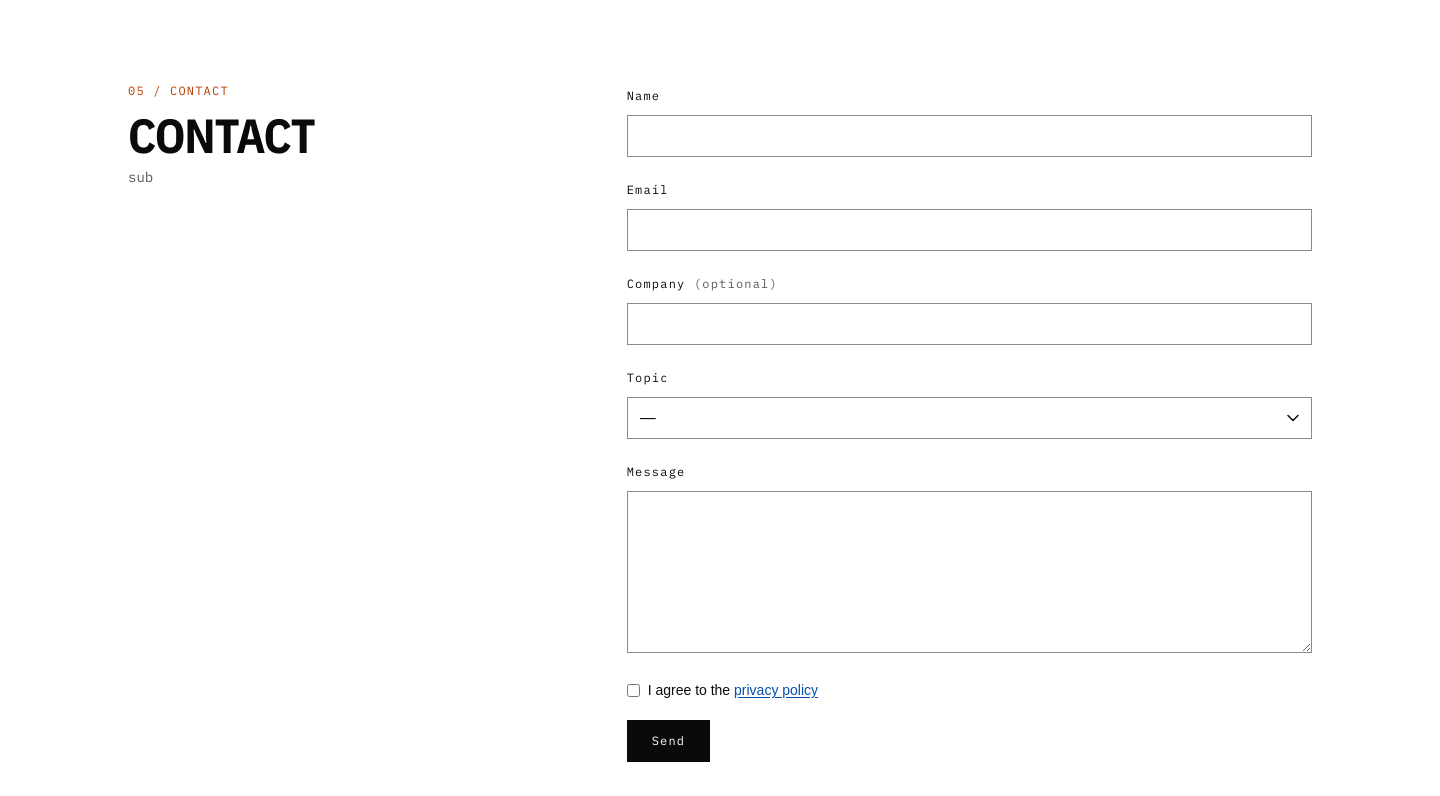
Test: ContactSection › sends the entry through the Server Action
The image size is (1440, 796).
Type "山田" into the field labelled "Name" at [969, 136], box [627, 115, 1312, 157]
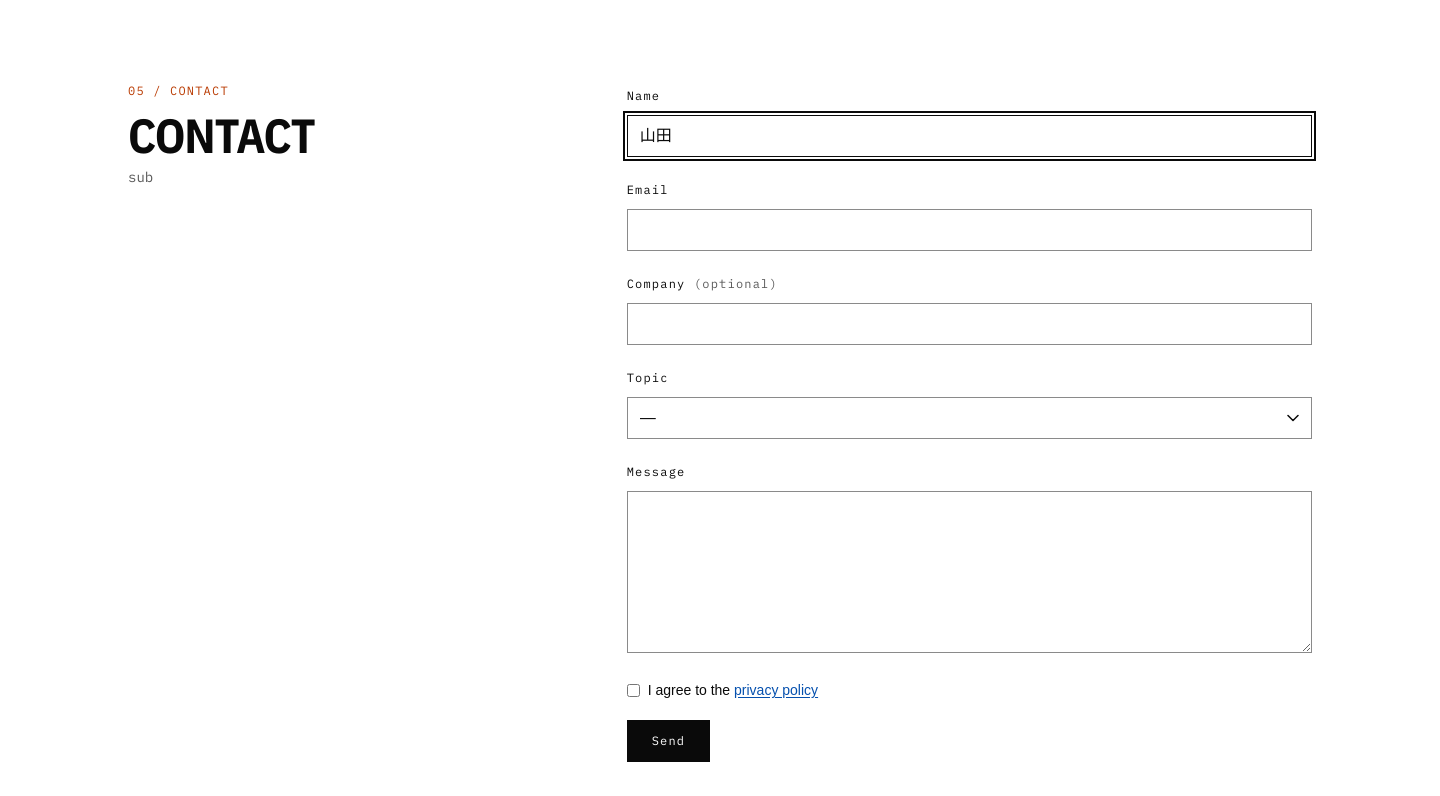
Type "taro@example.com" into the field labelled "Email" at [969, 230], box [627, 209, 1312, 251]
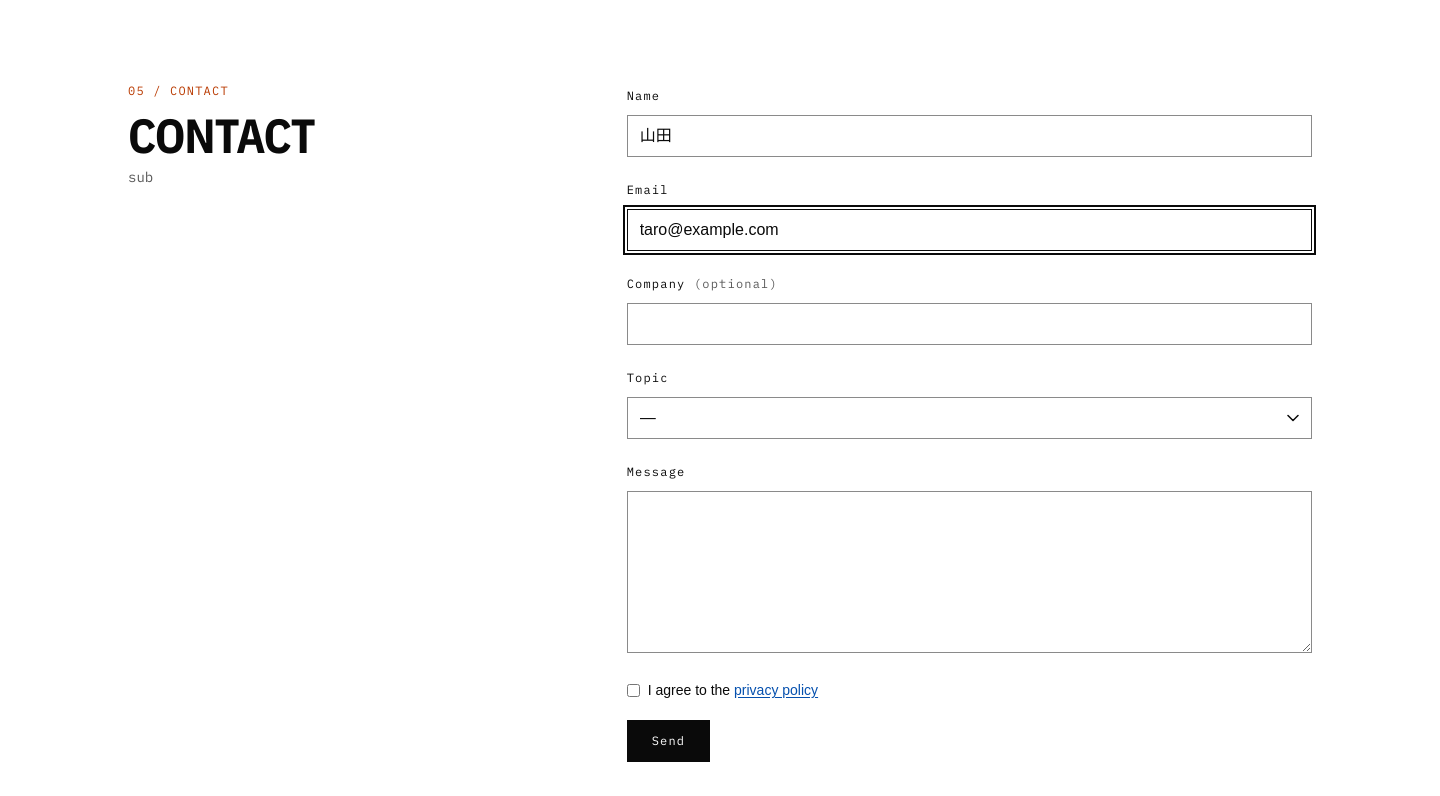
Select "Pipeline" in the dropdown labelled "Topic" at [969, 418], box [627, 397, 1312, 439]
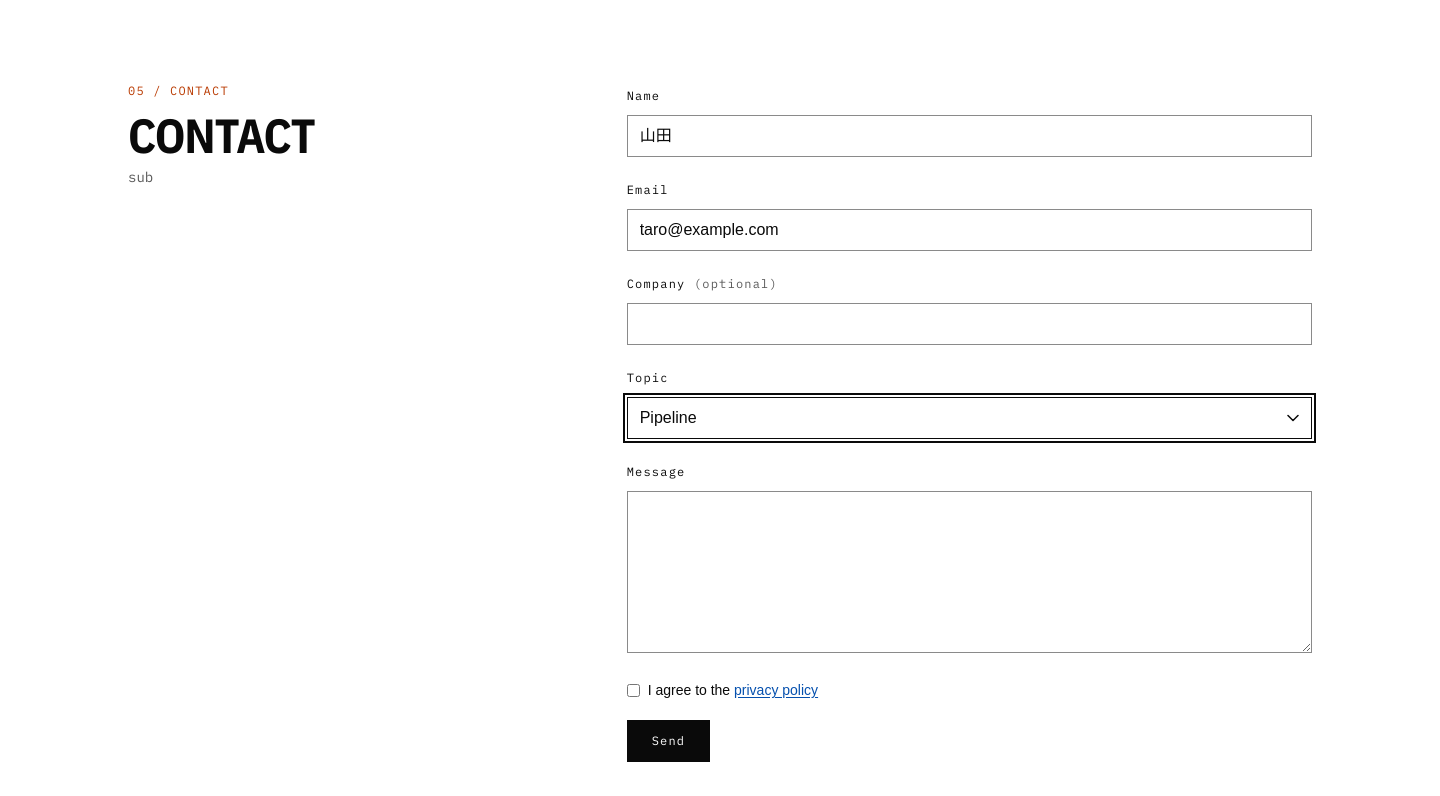
Type "相談です" into the text box labelled "Message" at [969, 572], box [627, 491, 1312, 653]
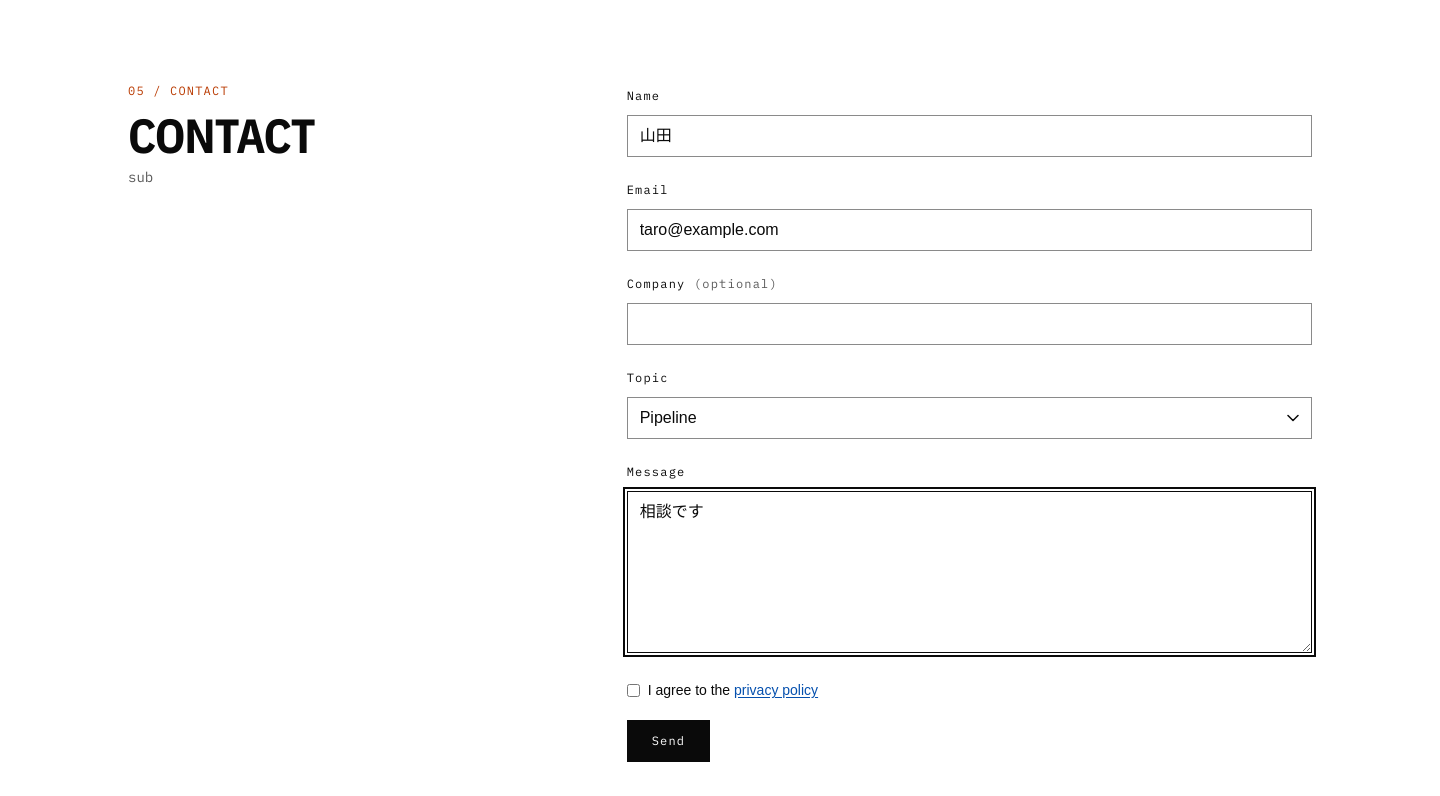
Click the checkbox labelled "I agree to the privacy policy" at [633, 690], box [627, 684, 640, 696]
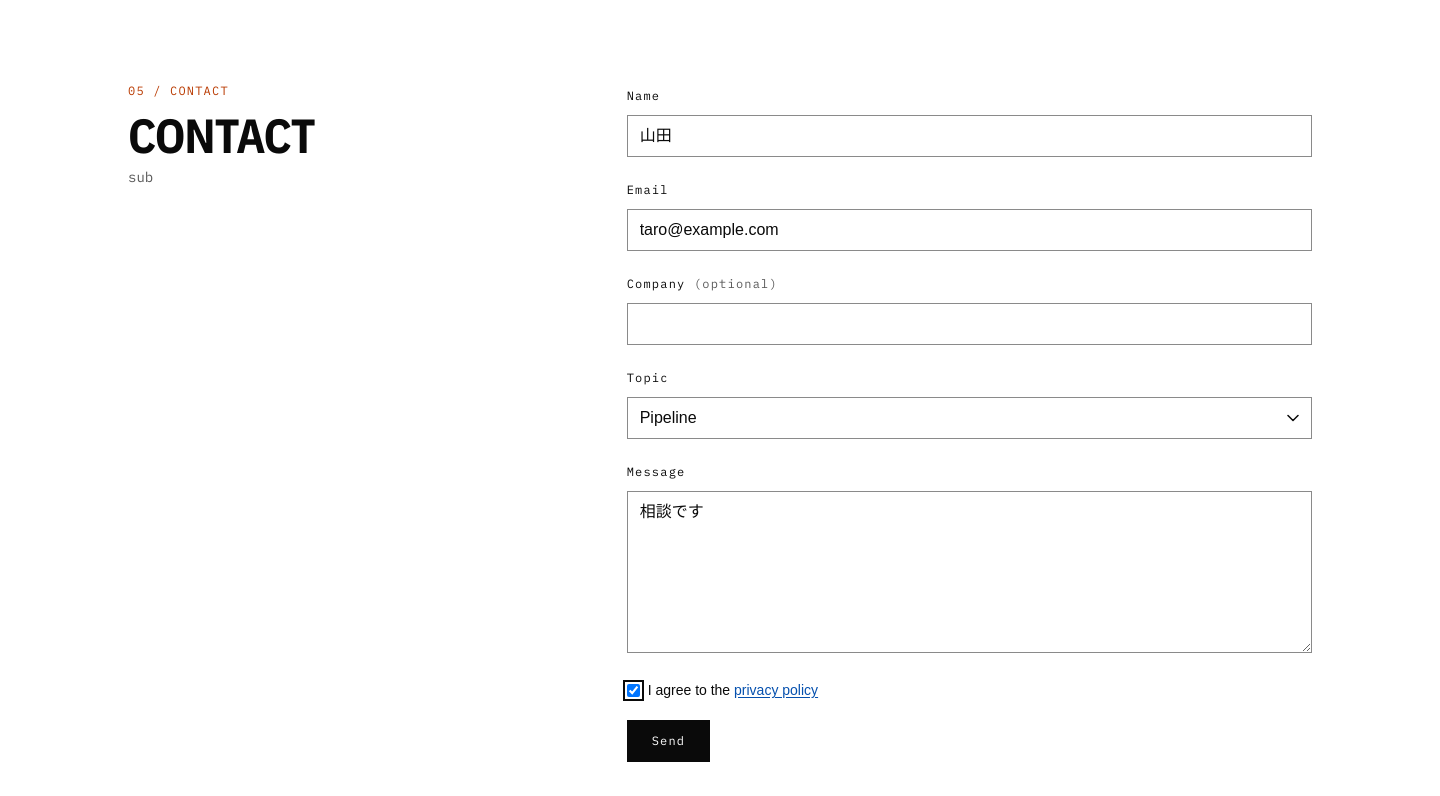
Click the button "Send" at [668, 741], box [627, 720, 710, 762]
(page scrolled)
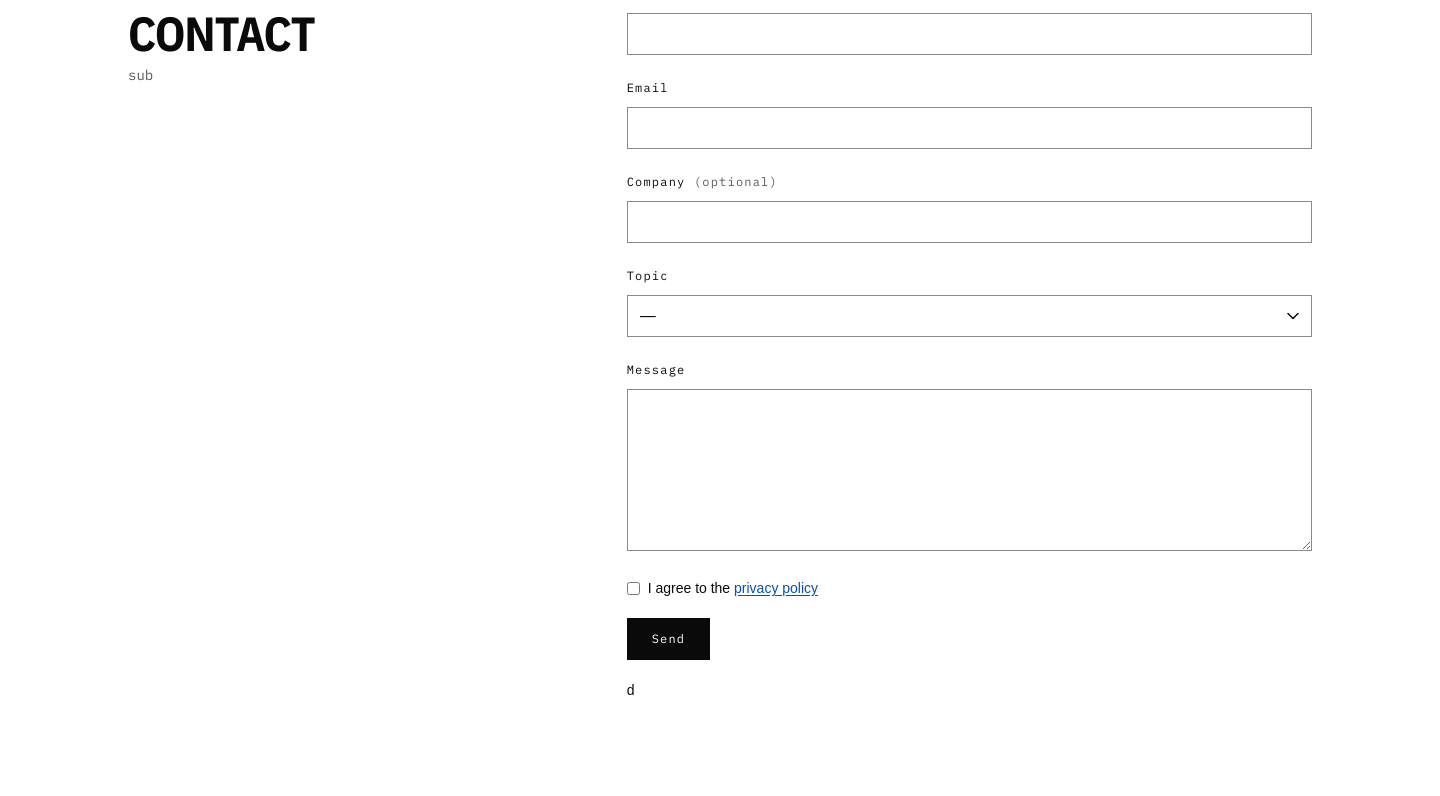
Check: the message "d" is shown, box [627, 682, 634, 698]
